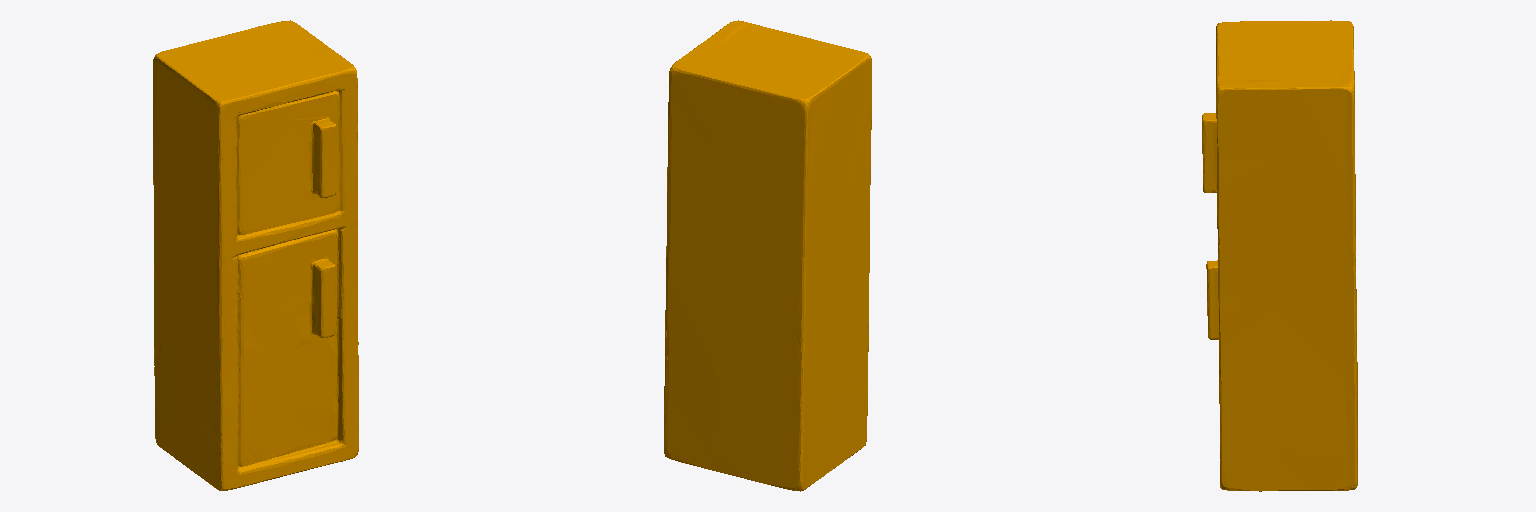
URDF robot description (3D_Dollhouse_Refrigerator):

<robot name="3D_Dollhouse_Refrigerator">
    <link name="base">
        <inertial>
            <origin xyz="5.49672022552208e-19 -5.49672022552208e-19 -3.517900944334131e-17" />
            <mass value="0.0010273192164318907" />
            <inertia ixx="4.073828251155123e-06" ixy="7.435071274210803e-10" 
                     ixz="2.632512108937157e-08" iyy="4.239970250150577e-06" 
                     iyz="4.4831011497772556e-08" izz="8.657308584695264e-07" />
        </inertial>
        <visual>
            <origin xyz="0 0 0" />
            <geometry>
                <mesh filename="visual_geometry.obj" />
            </geometry>
        </visual>
        <collision>
            <origin xyz="0 0 0" />
            <geometry>
                <mesh filename="collision_geometry.obj" />
            </geometry>
        </collision>
    </link>
</robot>

--- Facts derived from the render (not from the file) ---
Views: 3 orthographic renders of the robot side by side, from view 1: azimuth 30°, elevation 25°; view 2: azimuth 150°, elevation 25°; view 3: azimuth 270°, elevation 25°.
Robot: 3D_Dollhouse_Refrigerator — 1 links, 0 joints (none); root link base; default pose: all joints at 0.
Links seen in each view (by area): view 1: base; view 2: base; view 3: base.
Boxes of the visible links, x1,y1,x2,y2 form: base: [153, 20, 358, 490]; base: [664, 20, 871, 491]; base: [1202, 20, 1357, 491].
Bounding box of the posed robot: 0.0797 × 0.0735 × 0.21 m (x, y, z).
1 mesh visuals loaded from 1 distinct referenced files (1 OBJ).